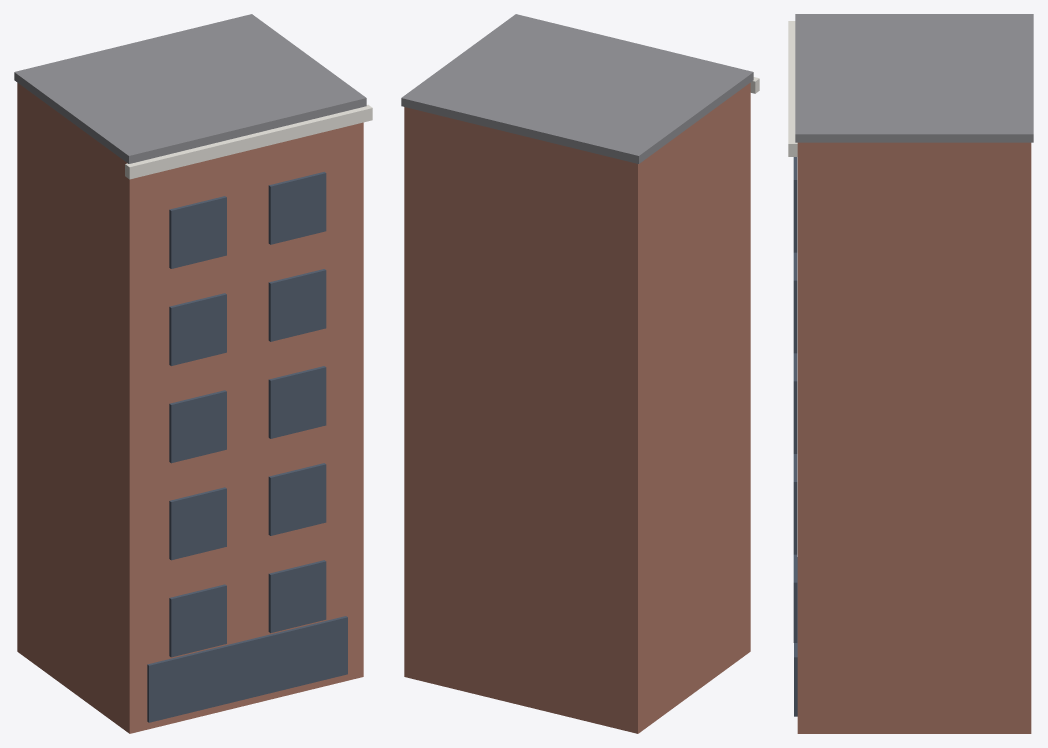
The model's file is Facade_Tall.glb.
3 views of the same model, side by side, from view 1: azimuth 30°, elevation 25°; view 2: azimuth 150°, elevation 25°; view 3: azimuth 270°, elevation 25° (orthographic). The views are drawn at different scales.
Visible parts, largest first — view 1: Facade_Tall; view 2: Facade_Tall; view 3: Facade_Tall.
Boxes of the visible parts, left/top/right/bottom form: Facade_Tall: left=14, top=14, right=372, bottom=733; Facade_Tall: left=401, top=14, right=759, bottom=733; Facade_Tall: left=788, top=14, right=1033, bottom=733.
Bounding box in the file's own units: 6.24 × 14.2 × 5.25.
